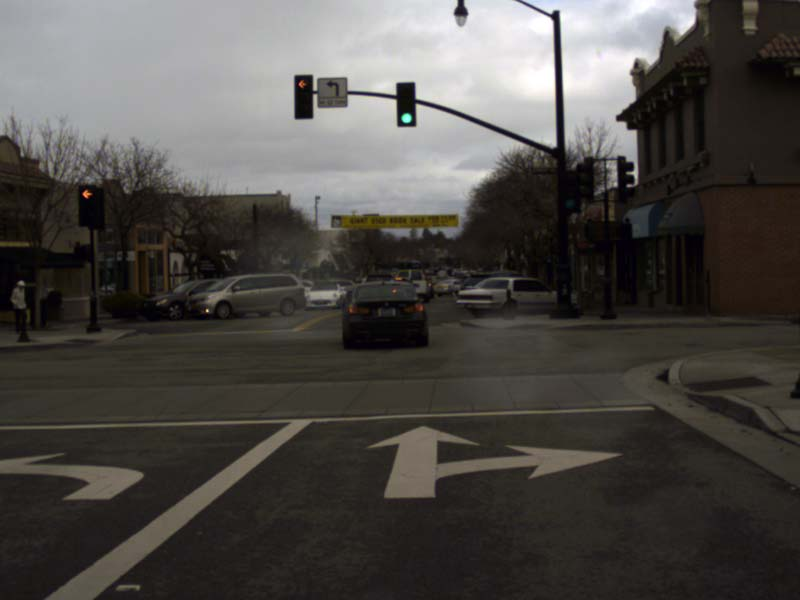Green: (396, 82, 415, 126)
Red: (79, 185, 99, 226), (294, 75, 312, 118)
